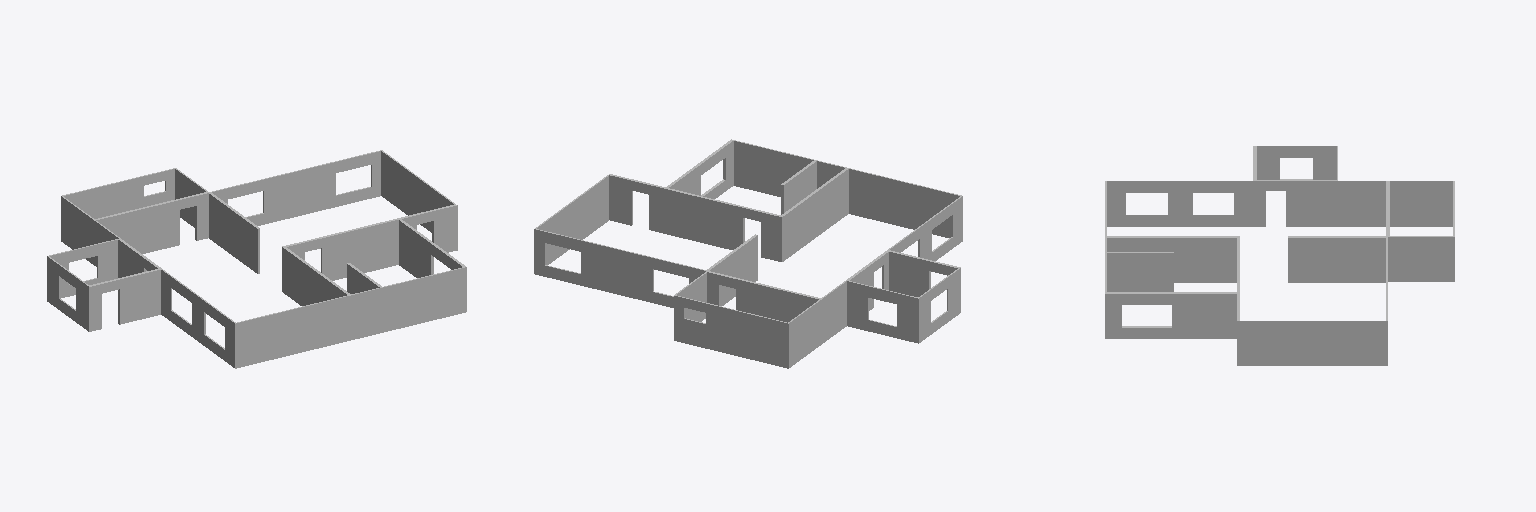
Rendered from house_1stFloor_wall.obj.
3 views of the same model, side by side, from view 1: azimuth 30°, elevation 25°; view 2: azimuth 150°, elevation 25°; view 3: azimuth 270°, elevation 25° (orthographic).
Visible parts, largest first — view 1: Cube.004_Mesh, Cube.010_Mesh, Cube.066_Mesh, Cube.068_Mesh, Cube.022_Mesh, Cube.028_Mesh, Cube.017_Mesh, Cube.021_Mesh, Cube.026_Mesh, Cube.057_Mesh, Cube.018_Mesh, Cube.012_Mesh (+5 smaller); view 2: Cube.004_Mesh, Cube.066_Mesh, Cube.010_Mesh, Cube.022_Mesh, Cube.057_Mesh, Cube.068_Mesh, Cube.012_Mesh, Cube.013_Mesh, Cube.021_Mesh, Cube.028_Mesh, Cube.017_Mesh, Cube.018_Mesh (+5 smaller); view 3: Cube.021_Mesh, Cube.018_Mesh, Cube.012_Mesh, Cube.017_Mesh, Cube.026_Mesh, Cube.057_Mesh, Cube.023_Mesh, Cube.003_Mesh, Cube.059_Mesh, Cube.014_Mesh.
Boxes of the visible parts, x1=… form: Cube.004_Mesh: x1=234, y1=267, x2=465, y2=368; Cube.010_Mesh: x1=212, y1=150, x2=382, y2=225; Cube.066_Mesh: x1=282, y1=204, x2=455, y2=291; Cube.068_Mesh: x1=94, y1=192, x2=208, y2=253; Cube.022_Mesh: x1=61, y1=168, x2=175, y2=239; Cube.028_Mesh: x1=88, y1=268, x2=161, y2=331; Cube.017_Mesh: x1=161, y1=269, x2=236, y2=367; Cube.021_Mesh: x1=381, y1=151, x2=457, y2=250; Cube.026_Mesh: x1=209, y1=192, x2=259, y2=273; Cube.057_Mesh: x1=282, y1=247, x2=351, y2=339; Cube.018_Mesh: x1=398, y1=219, x2=466, y2=312; Cube.012_Mesh: x1=61, y1=196, x2=119, y2=266; Cube.004_Mesh: x1=733, y1=140, x2=962, y2=241; Cube.066_Mesh: x1=609, y1=174, x2=782, y2=261; Cube.010_Mesh: x1=534, y1=229, x2=706, y2=307; Cube.022_Mesh: x1=674, y1=295, x2=789, y2=367; Cube.057_Mesh: x1=779, y1=168, x2=848, y2=261; Cube.068_Mesh: x1=706, y1=271, x2=822, y2=322; Cube.012_Mesh: x1=787, y1=280, x2=847, y2=368; Cube.013_Mesh: x1=847, y1=281, x2=919, y2=342; Cube.021_Mesh: x1=534, y1=174, x2=609, y2=269; Cube.028_Mesh: x1=889, y1=250, x2=960, y2=312; Cube.017_Mesh: x1=888, y1=196, x2=961, y2=260; Cube.018_Mesh: x1=664, y1=139, x2=733, y2=233; Cube.021_Mesh: x1=1237, y1=321, x2=1387, y2=365; Cube.018_Mesh: x1=1105, y1=292, x2=1239, y2=338; Cube.012_Mesh: x1=1338, y1=181, x2=1452, y2=226; Cube.017_Mesh: x1=1107, y1=181, x2=1254, y2=226; Cube.026_Mesh: x1=1288, y1=236, x2=1387, y2=282; Cube.057_Mesh: x1=1105, y1=236, x2=1239, y2=282; Cube.023_Mesh: x1=1255, y1=180, x2=1337, y2=226; Cube.003_Mesh: x1=1388, y1=236, x2=1454, y2=281; Cube.059_Mesh: x1=1105, y1=252, x2=1173, y2=291; Cube.014_Mesh: x1=1257, y1=146, x2=1336, y2=179.
Size of the model in its own units: 50 by 6 by 42.